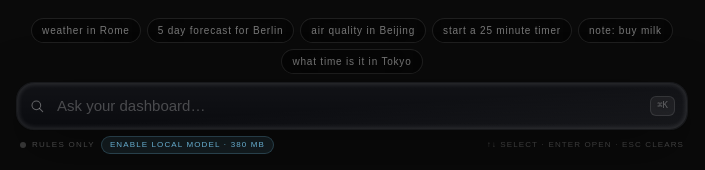
Test case: the opt-in for the local model › downloads the model on request and remembers the choice
Click the button "Enable local model · 380 MB" at (187, 145), box [101,136,274,154]
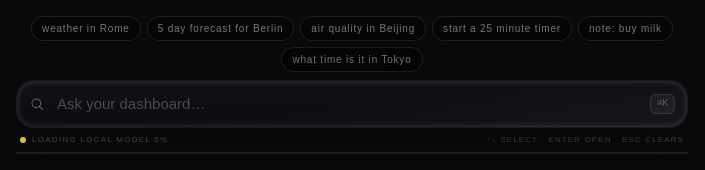
Now the text "Loading local model 0%" is shown, box [32,134,168,146]
